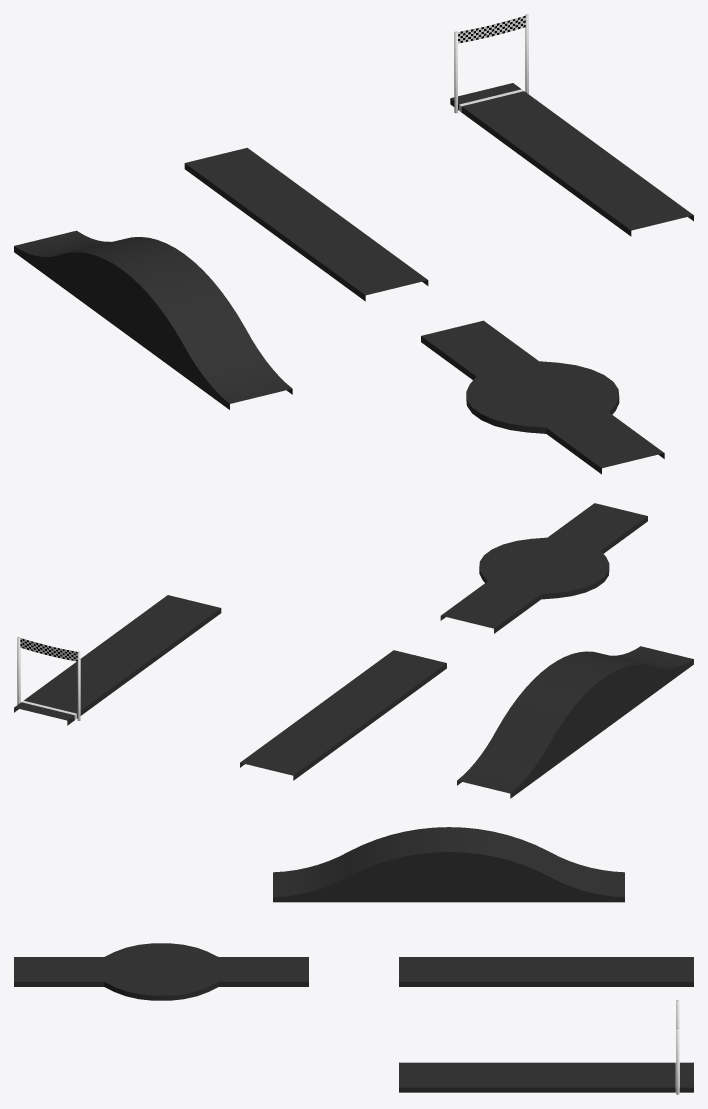
Rendered from TrackParts_NoSides_Scale50.fbx.
3 views of the same model, one above another, from view 1: azimuth 30°, elevation 25°; view 2: azimuth 150°, elevation 25°; view 3: azimuth 270°, elevation 25° (orthographic). The views are drawn at different scales.
Visible parts, largest first — view 1: Bridge.003, Circle.002, Finish.003, Straight.006, Banner.003; view 2: Bridge.003, Circle.002, Finish.003, Straight.006, Banner.003; view 3: Bridge.003, Circle.002, Finish.003, Straight.006.
Boxes of the visible parts, box(x1,y1,x2,y2) form: Bridge.003: box(14, 230, 292, 409); Circle.002: box(421, 320, 664, 474); Finish.003: box(450, 14, 693, 236); Straight.006: box(184, 147, 428, 301); Banner.003: box(458, 15, 525, 43); Bridge.003: box(457, 646, 693, 798); Circle.002: box(440, 503, 647, 633); Finish.003: box(14, 595, 221, 725); Straight.006: box(240, 650, 446, 780); Banner.003: box(20, 638, 77, 661); Bridge.003: box(273, 827, 624, 902); Circle.002: box(14, 943, 308, 1000); Finish.003: box(399, 1000, 693, 1094); Straight.006: box(399, 957, 693, 986).
Size of the model in its own units: 7995 by 1121 by 10560.
